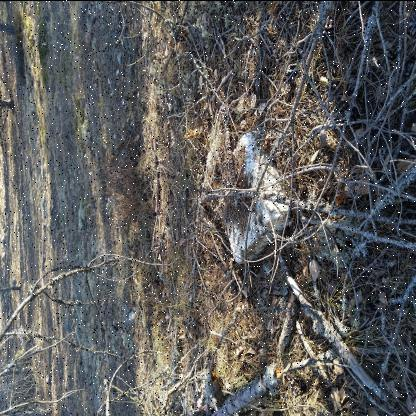foam: (218, 130, 290, 262)
